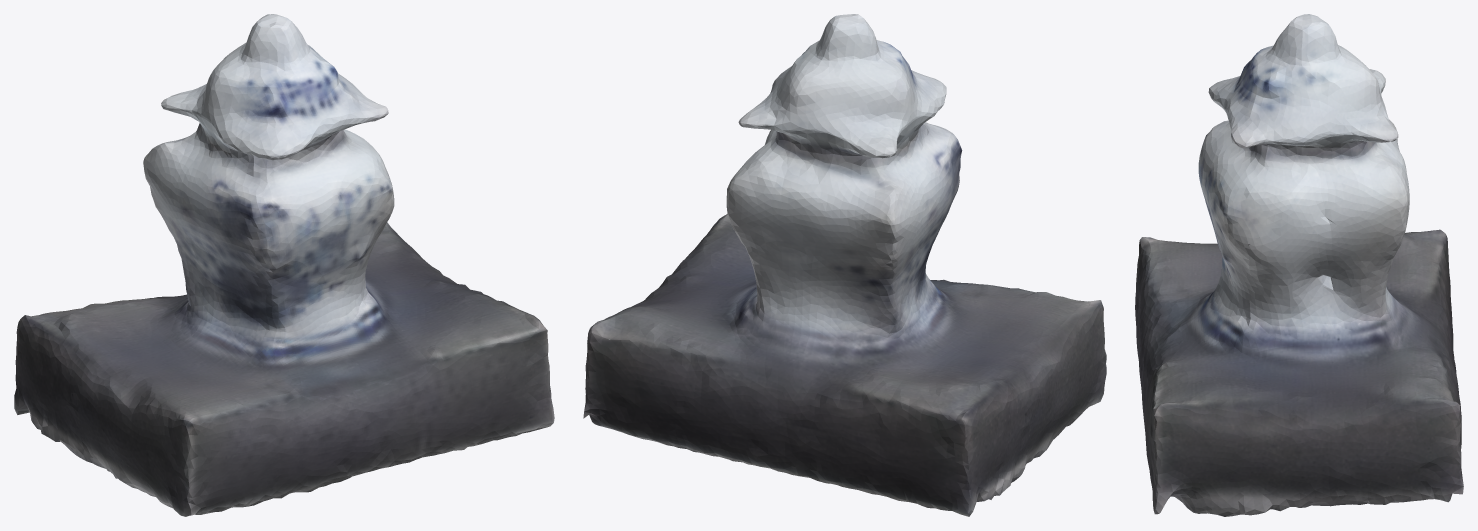
Rendered from water_cup.glb.
3 renders of one model, left to right at view 1: azimuth 30°, elevation 25°; view 2: azimuth 150°, elevation 25°; view 3: azimuth 270°, elevation 25°, orthographic.
Bounding box in the file's own units: 0.5768 × 0.5635 × 0.4135.
Materials: 1 (1 with a texture image).
